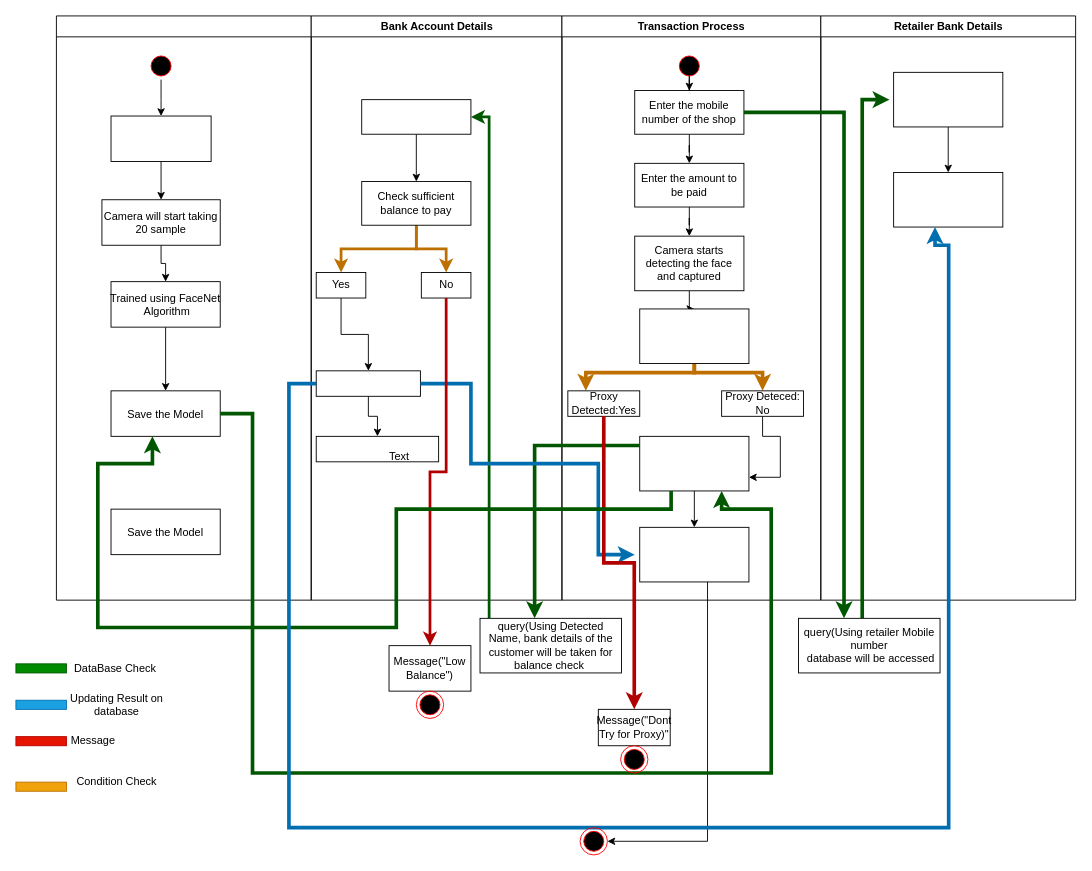
This 1092x871 diagram has some shape labels left out. The box of each missing label's shape, as (x1, y1, x2, y2) in pixels:
Enter CustomerID: (110, 115, 211, 162)
Face Enrollment: (56, 15, 311, 600)
Message: Amount Paid: (639, 526, 749, 582)
Name: (361, 99, 471, 134)
Name of the captured face will be detected (Customer Name): (639, 435, 749, 491)
Name of the retailer: (893, 71, 1003, 127)
Proxy detection will be applied to captured face: (639, 308, 749, 364)
Transfer the amount to be paid: (315, 370, 420, 396)
update the balance: (893, 172, 1003, 227)
Update the balance after deducted amount: (315, 435, 439, 462)
